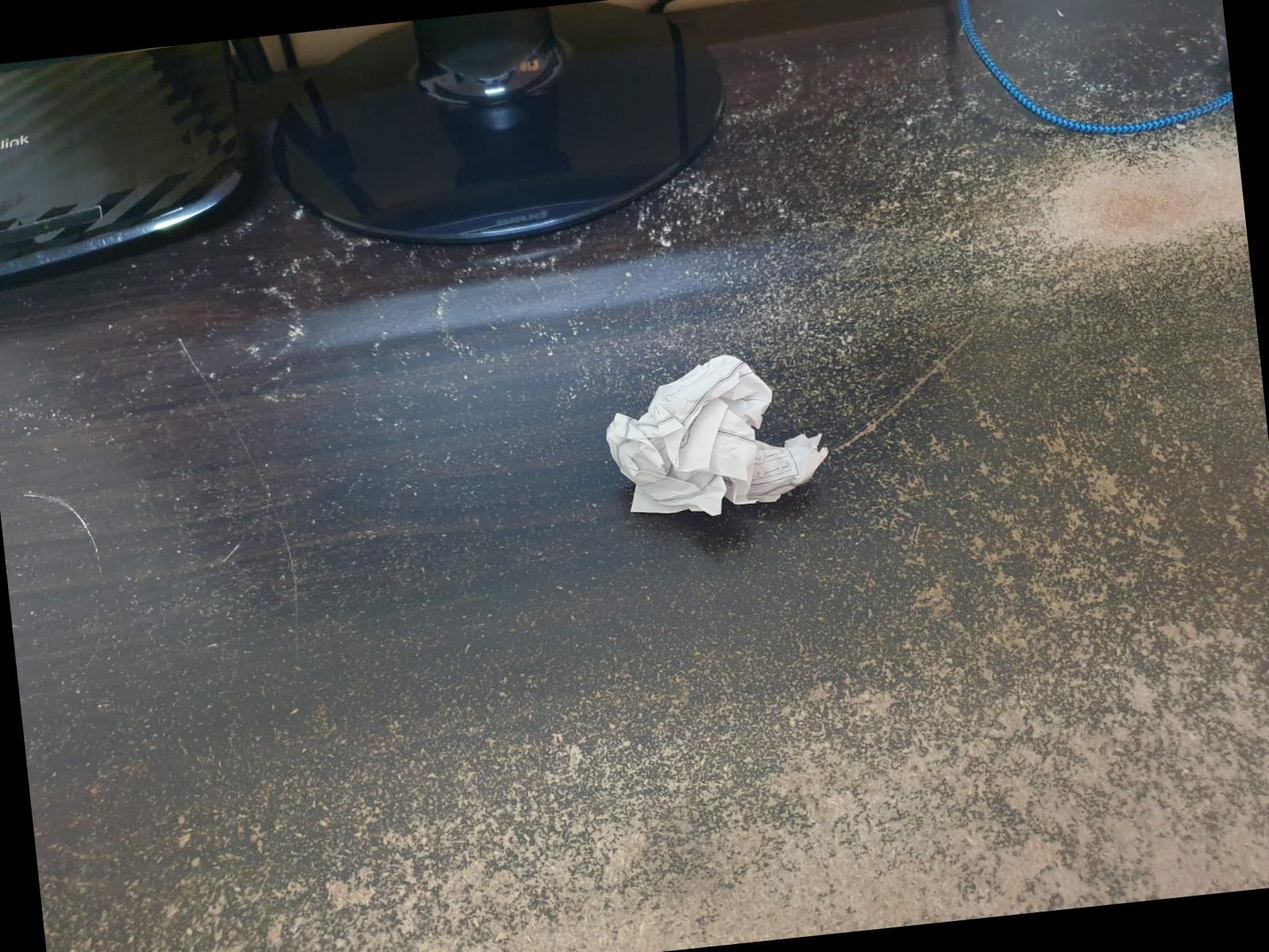Kertas: (609, 359, 832, 520)
